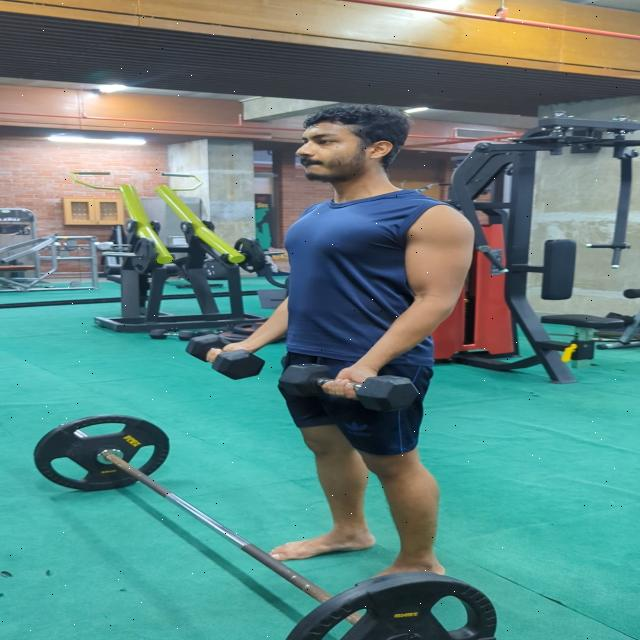Normal_DumbbellBicepCurls: (201, 104, 479, 589)
